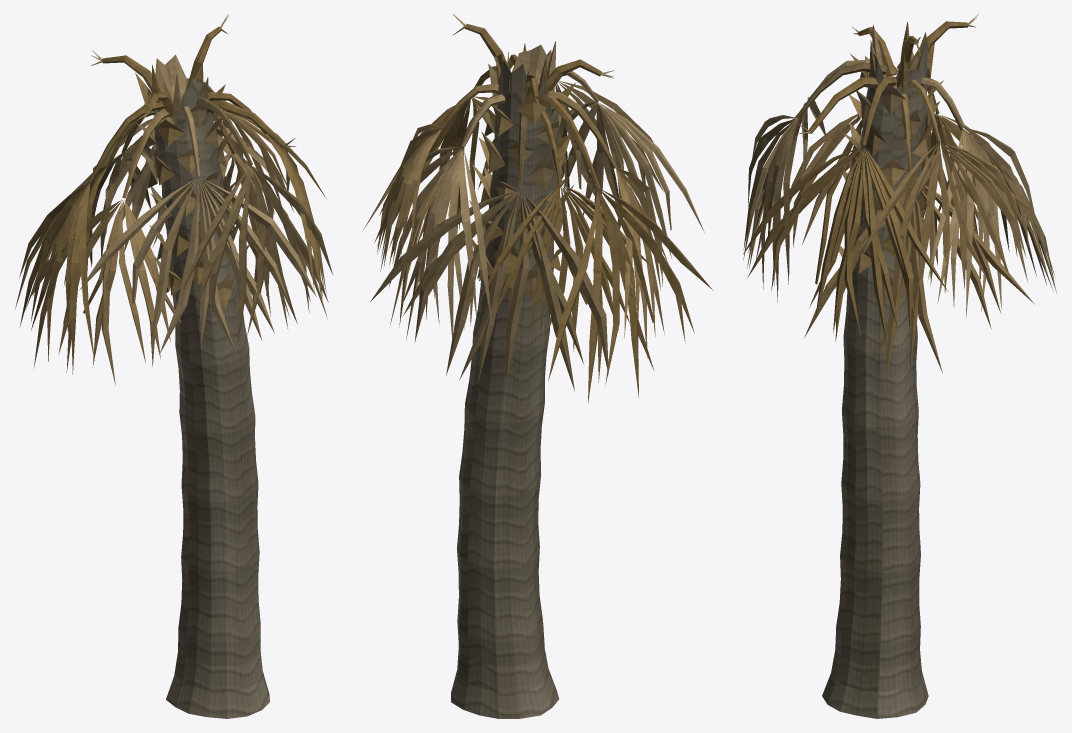
File: palm_fl_dead.glb
3 views of the same model, side by side, from view 1: azimuth 30°, elevation 25°; view 2: azimuth 150°, elevation 25°; view 3: azimuth 270°, elevation 25° (orthographic). The views are drawn at different scales.
Parts seen in each view (by area): view 1: Florida_Fan_Palm_Dead; view 2: Florida_Fan_Palm_Dead; view 3: Florida_Fan_Palm_Dead.
Part boxes in pixels (x1,y1,x2,y2): Florida_Fan_Palm_Dead: [15, 14, 333, 718]; Florida_Fan_Palm_Dead: [363, 14, 713, 718]; Florida_Fan_Palm_Dead: [743, 14, 1056, 718].
Bounding box in the file's own units: 1.74 × 4.01 × 1.7.
1 material, 1 textured.
